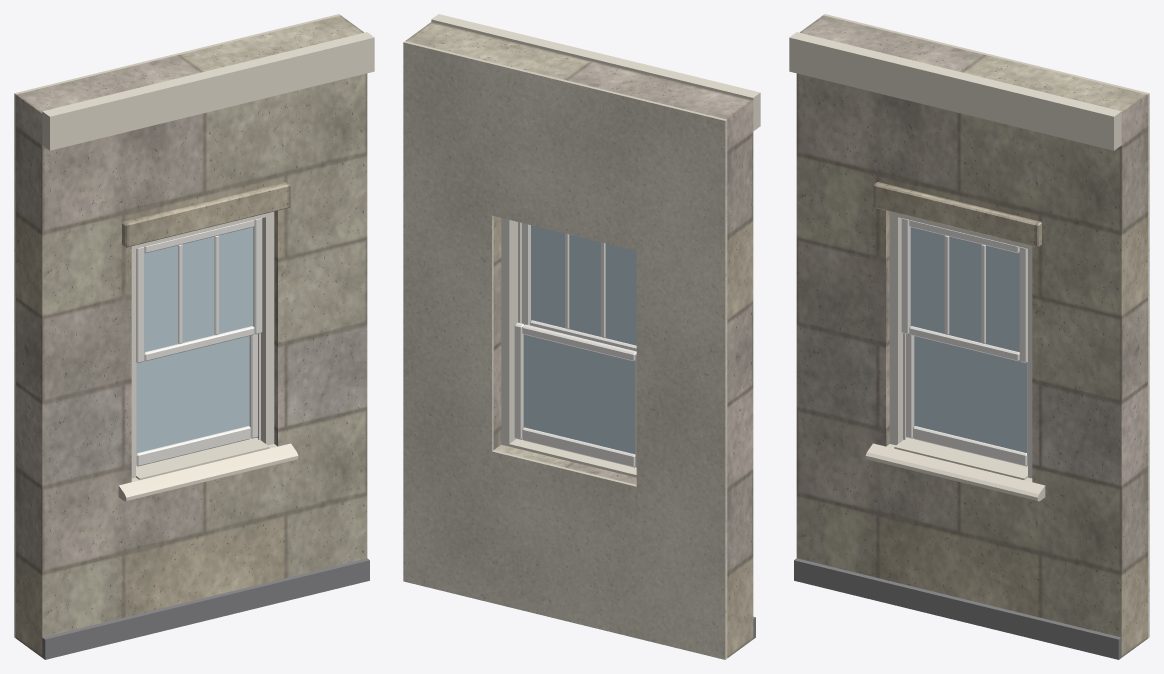
The model's file is wall_ground_window.glb.
The picture shows the model from 3 angles, left to right: view 1: azimuth 30°, elevation 25°; view 2: azimuth 150°, elevation 25°; view 3: azimuth 330°, elevation 25°; orthographic projection.
Parts seen in each view (by area): view 1: wall_ground_window_stone, wall_ground_window_glass, wall_ground_window_trim, wall_ground_window_dark, wall_ground_window_sash, wall_ground_window_frame, wall_ground_window_plaster; view 2: wall_ground_window_plaster, wall_ground_window_stone, wall_ground_window_glass, wall_ground_window_sash, wall_ground_window_trim, wall_ground_window_frame; view 3: wall_ground_window_stone, wall_ground_window_glass, wall_ground_window_trim, wall_ground_window_dark, wall_ground_window_sash, wall_ground_window_frame, wall_ground_window_plaster.
Part boxes in pixels (left/top/right/bottom): wall_ground_window_stone: left=16, top=15, right=367, bottom=657; wall_ground_window_glass: left=137, top=227, right=253, bottom=452; wall_ground_window_trim: left=42, top=32, right=374, bottom=501; wall_ground_window_dark: left=42, top=558, right=369, bottom=659; wall_ground_window_sash: left=136, top=218, right=262, bottom=466; wall_ground_window_frame: left=131, top=211, right=274, bottom=478; wall_ground_window_plaster: left=14, top=14, right=340, bottom=638; wall_ground_window_plaster: left=403, top=41, right=727, bottom=659; wall_ground_window_stone: left=405, top=22, right=753, bottom=657; wall_ground_window_glass: left=523, top=225, right=636, bottom=454; wall_ground_window_sash: left=514, top=223, right=636, bottom=467; wall_ground_window_trim: left=431, top=14, right=760, bottom=477; wall_ground_window_frame: left=501, top=218, right=521, bottom=446; wall_ground_window_stone: left=796, top=15, right=1147, bottom=657; wall_ground_window_glass: left=910, top=227, right=1026, bottom=452; wall_ground_window_trim: left=789, top=32, right=1121, bottom=501; wall_ground_window_dark: left=794, top=558, right=1121, bottom=659; wall_ground_window_sash: left=901, top=218, right=1027, bottom=466; wall_ground_window_frame: left=889, top=211, right=1032, bottom=478; wall_ground_window_plaster: left=823, top=14, right=1149, bottom=638.
Size of the model in its own units: 2 by 3.21 by 0.38.
Materials: 7 (2 with a texture image).
